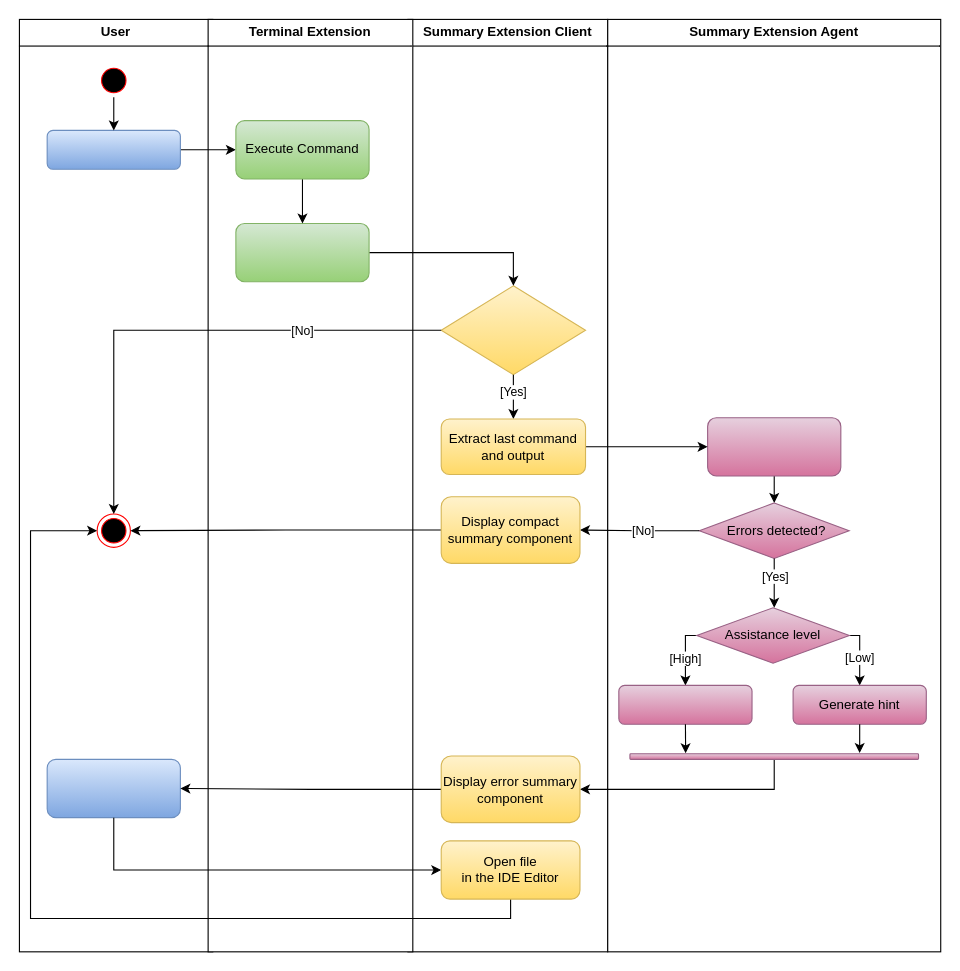
Image size: 960x971. Some labels were removed from this diagram. Each missing label, with the centre of its shape:
Click "Open File": point (113, 788)
Display raw command o utput: point (302, 252)
Evaluate command and output: point (774, 446)
Generate solution: point (685, 704)
Is AI asisstance enabled?: point (513, 330)
Trigger Command: point (113, 149)
